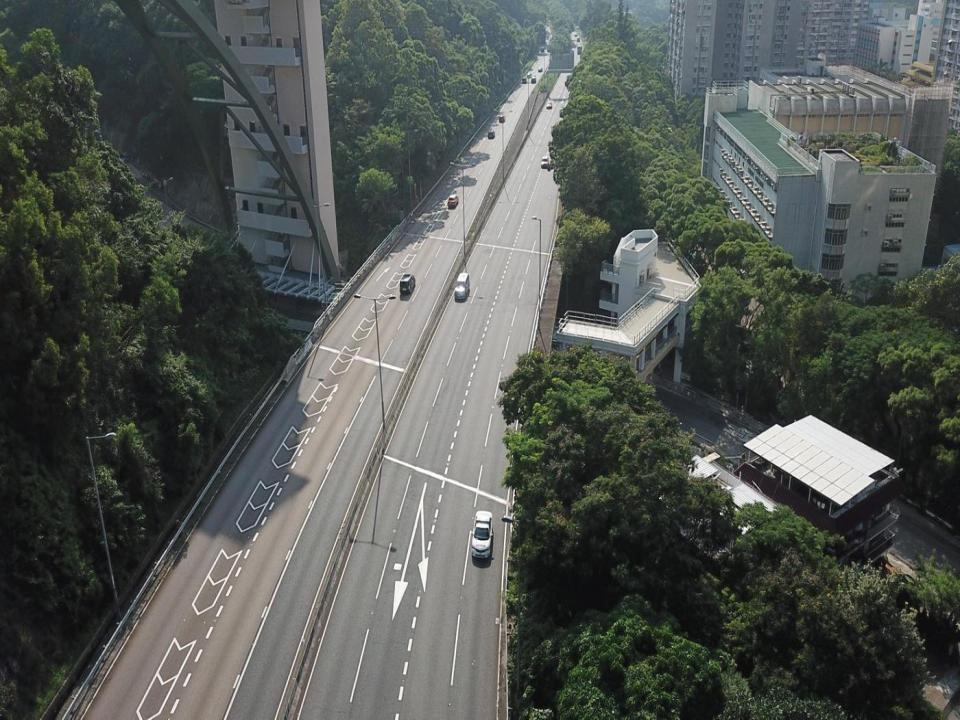car: (470, 510, 494, 557), (453, 272, 470, 300), (399, 273, 416, 294), (447, 194, 460, 207), (540, 154, 550, 169), (487, 128, 496, 140), (498, 114, 505, 124), (546, 100, 553, 110), (530, 76, 537, 84), (526, 71, 532, 78), (522, 77, 527, 84), (538, 66, 542, 73)
